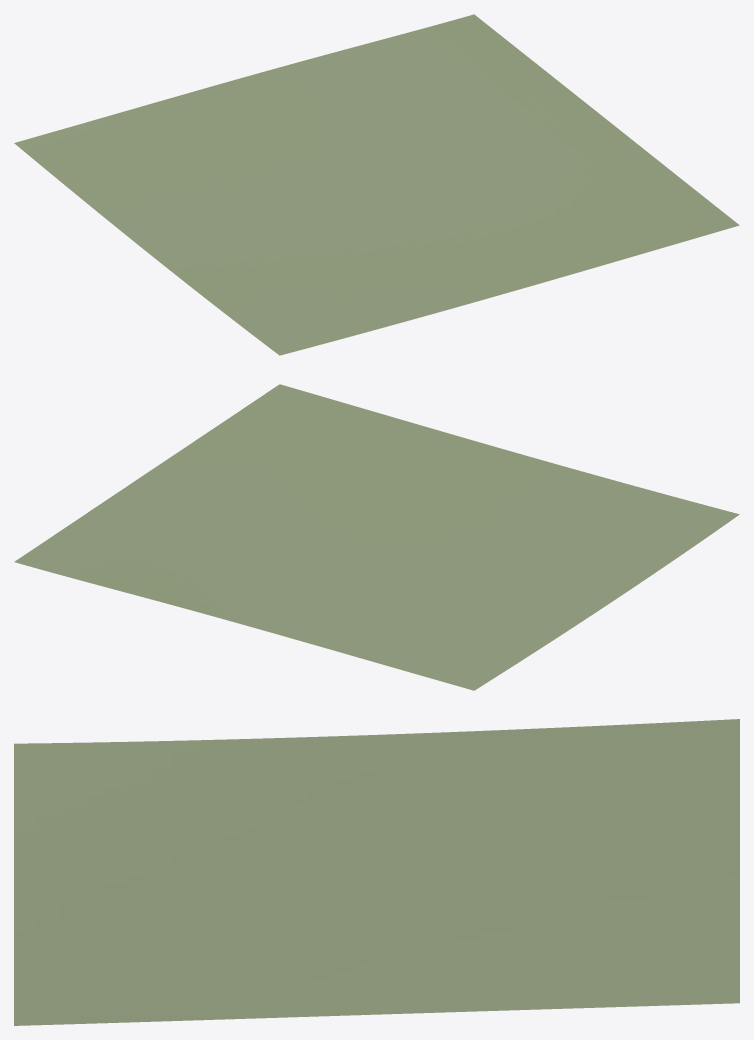
Rendered from desert-9-19.glb.
3 views of the same model, one above another, from view 1: azimuth 30°, elevation 25°; view 2: azimuth 150°, elevation 25°; view 3: azimuth 270°, elevation 25° (orthographic). The views are drawn at different scales.
Parts seen in each view (by area): view 1: desert-9-19; view 2: desert-9-19; view 3: desert-9-19.
Part boxes in pixels (x1,y1,x2,y2): desert-9-19: [14, 14, 739, 355]; desert-9-19: [14, 384, 739, 690]; desert-9-19: [14, 719, 739, 1025].
Size of the model in its own units: 512 by 36.73 by 512.
